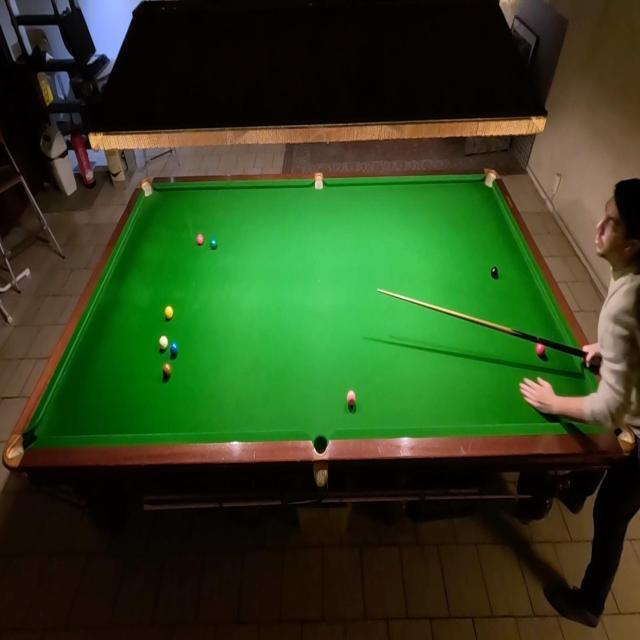Ball: (161, 361, 173, 381), (168, 340, 180, 360), (534, 340, 546, 360), (346, 388, 356, 409), (158, 334, 169, 352), (164, 304, 174, 322), (490, 264, 500, 282), (196, 232, 205, 247), (210, 237, 218, 252)
Pocket: (6, 427, 39, 467), (603, 414, 636, 452), (312, 434, 329, 456), (482, 171, 498, 190), (141, 180, 155, 199), (313, 173, 325, 190)
